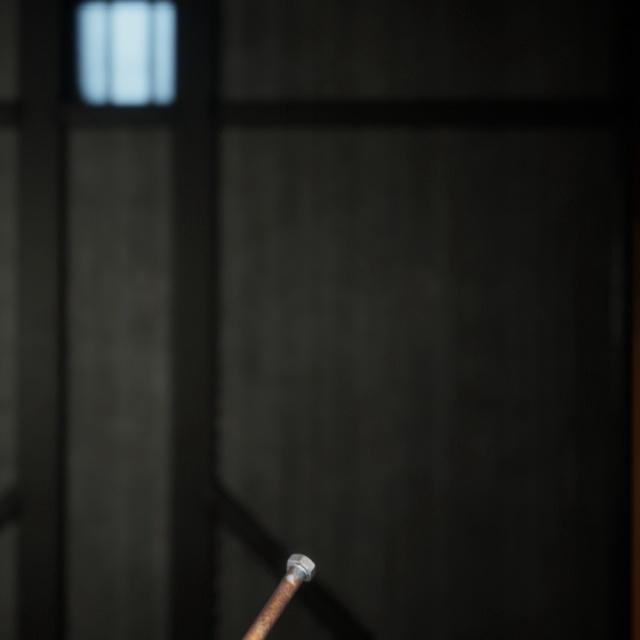bolt: (221, 526, 320, 640)
